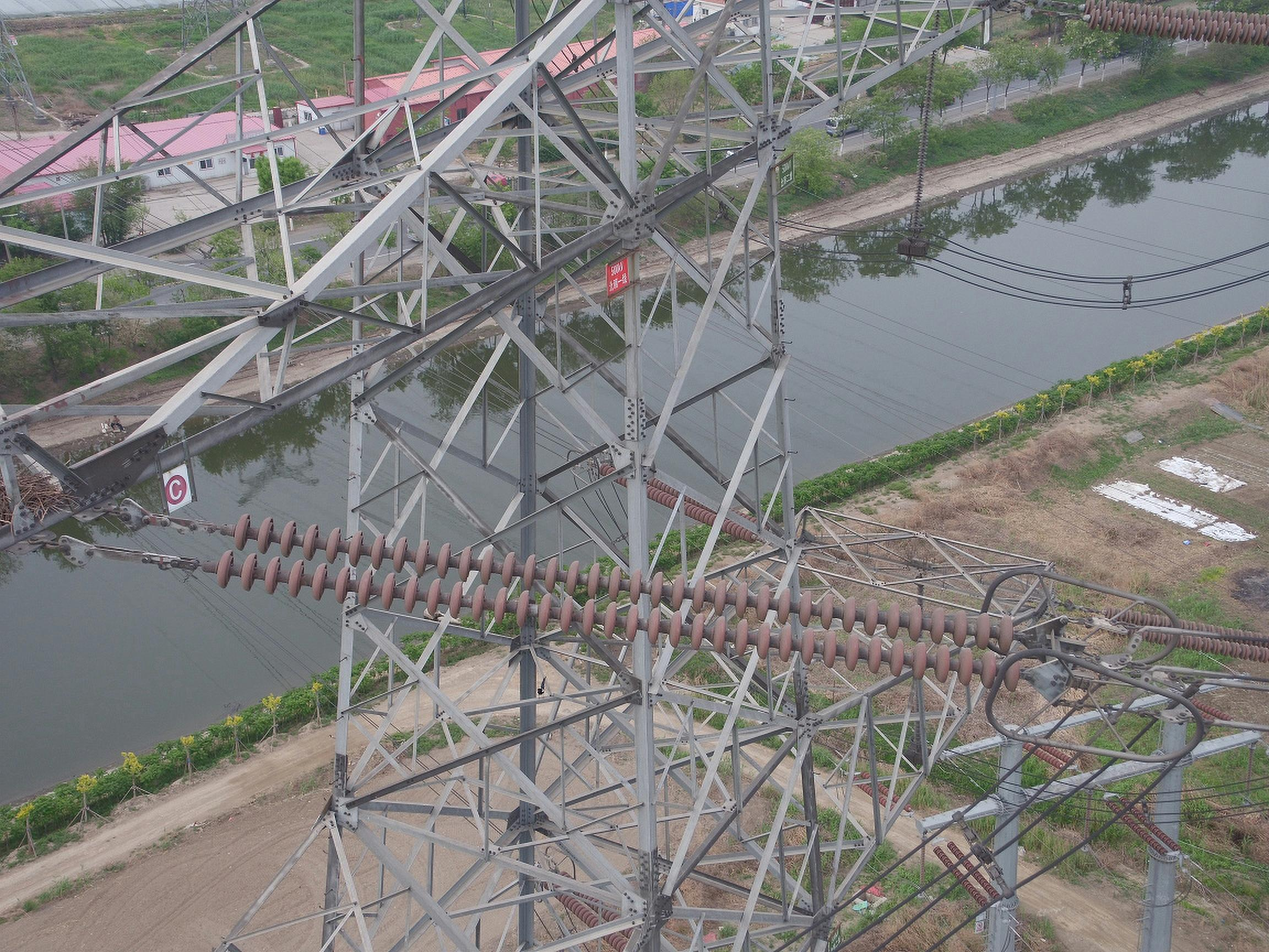insulator: (210, 510, 1026, 696), (595, 456, 768, 545), (1102, 605, 1269, 667), (1083, 1, 1269, 51), (544, 868, 639, 952), (909, 10, 943, 226), (930, 839, 1002, 908), (1104, 797, 1184, 859), (851, 769, 913, 816), (1022, 736, 1077, 771), (1185, 696, 1234, 727)
